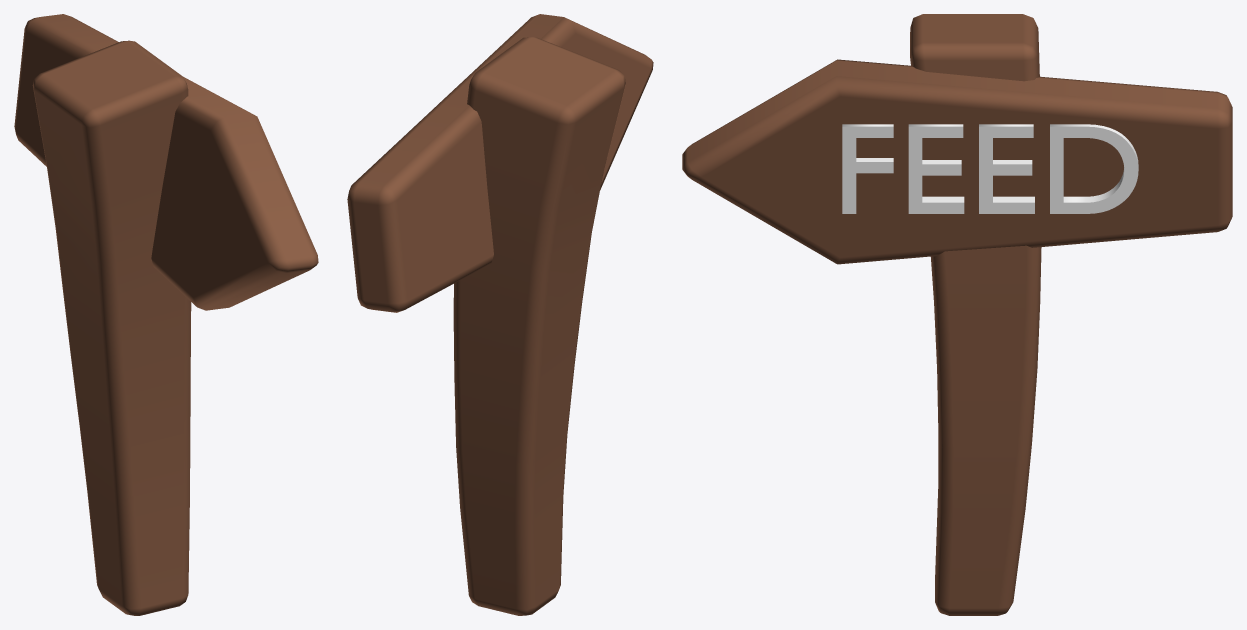
File: feed_direct.glb
3 renders of one model, left to right at view 1: azimuth 30°, elevation 25°; view 2: azimuth 150°, elevation 25°; view 3: azimuth 270°, elevation 25°, orthographic. The views are drawn at different scales.
Parts seen in each view (by area): view 1: Plane.009, Plane.010; view 2: Plane.009, Plane.010; view 3: Plane.010, Plane.009, Text.
Part boxes in pixels (x1=…): Plane.009: x1=32, y1=40, x2=191, y2=615; Plane.010: x1=14, y1=14, x2=318, y2=310; Plane.009: x1=453, y1=37, x2=625, y2=615; Plane.010: x1=347, y1=14, x2=653, y2=312; Plane.010: x1=682, y1=59, x2=1232, y2=264; Plane.009: x1=910, y1=14, x2=1041, y2=615; Text: x1=842, y1=124, x2=1138, y2=213.
Size of the model in its own units: 0.5623 by 2.11 by 1.86.
